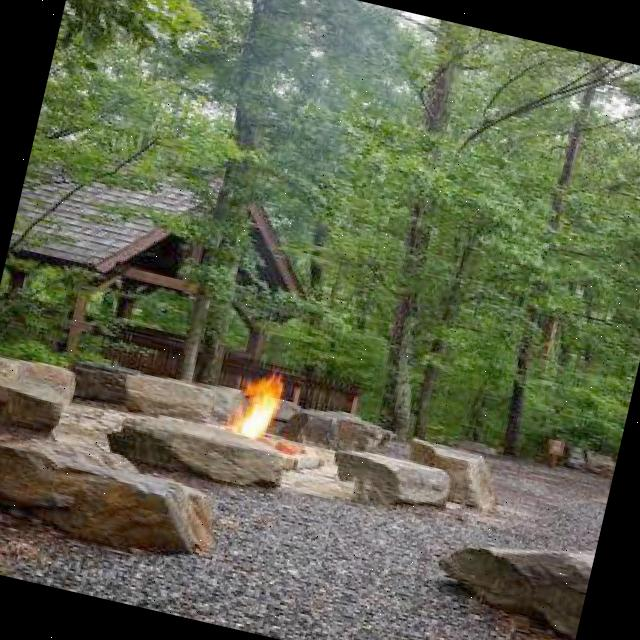fire: (210, 343, 306, 461)
